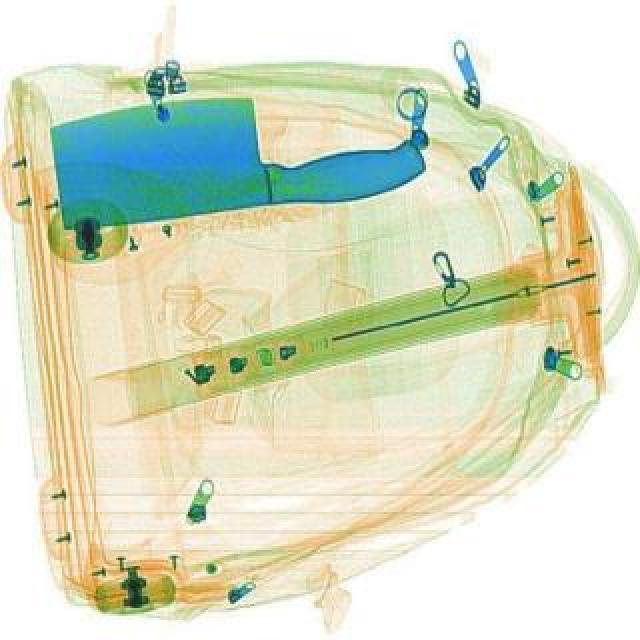knife: (44, 60, 428, 244)
